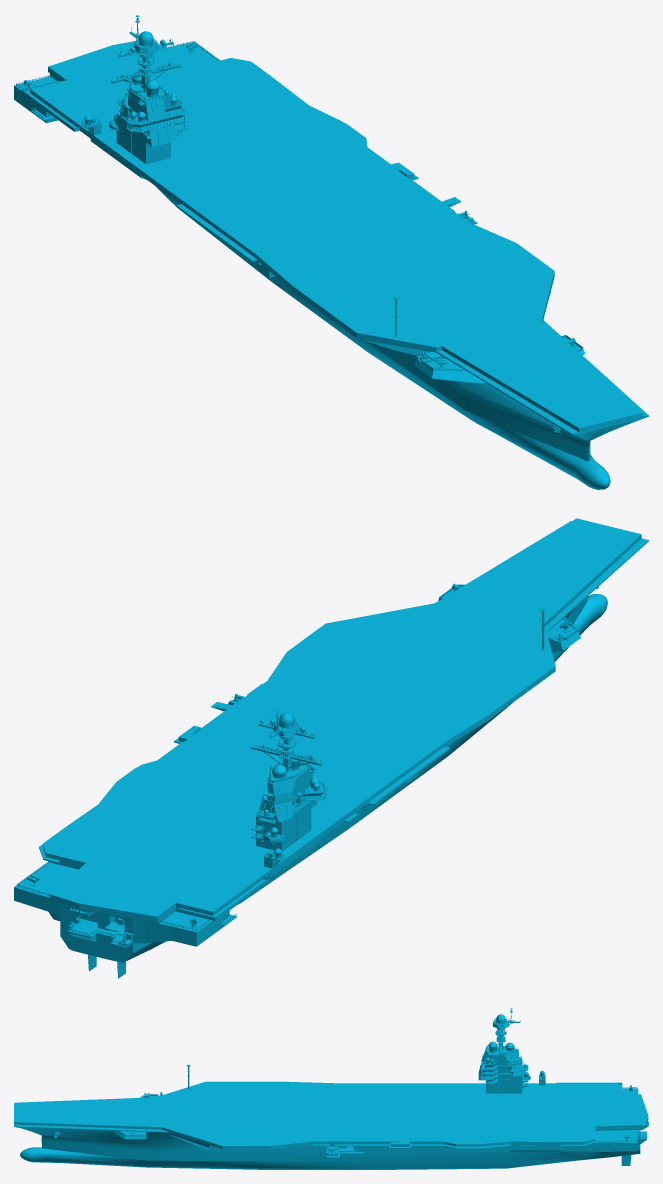
File: geraldrford.fbx
3 views of the same model, one above another, from view 1: azimuth 30°, elevation 25°; view 2: azimuth 150°, elevation 25°; view 3: azimuth 270°, elevation 25° (orthographic). The views are drawn at different scales.
Parts seen in each view (by area): view 1: Plane, Elevator1.001, Plane.003, Plane.002, Plane.001, Cube.001, Cube.516, Cube.522; view 2: Plane, Elevator1.001, Cube.526, Plane.003, Cube.522, Plane.001, Plane.002, Cube.001, Cube.003; view 3: Plane, Elevator1.001, G-__557796.001, Cube.522, Plane.001, Plane.003, Plane.002, Cube.001, Cube.003, G-__557796.002.
Part boxes in pixels (x1,y1,x2,y2): Plane: (21, 41, 648, 435); Elevator1.001: (155, 186, 646, 489); Plane.003: (257, 248, 335, 290); Plane.002: (141, 164, 218, 204); Plane.001: (232, 75, 308, 111); Cube.001: (116, 113, 170, 163); Cube.516: (414, 358, 486, 383); Cube.522: (161, 43, 218, 67); Plane: (39, 518, 648, 921); Elevator1.001: (60, 594, 607, 962); Cube.526: (133, 908, 229, 946); Plane.003: (406, 704, 490, 746); Cube.522: (14, 861, 80, 921); Plane.001: (63, 800, 140, 836); Plane.002: (311, 791, 367, 833); Cube.001: (256, 804, 311, 851); Cube.003: (267, 763, 311, 801); Plane: (14, 1081, 648, 1149); Elevator1.001: (17, 1127, 640, 1169); G-__557796.001: (165, 1132, 509, 1151); Cube.522: (561, 1128, 640, 1151); Plane.001: (510, 1129, 560, 1145); Plane.003: (285, 1081, 334, 1095); Plane.002: (429, 1083, 479, 1095); Cube.001: (486, 1074, 522, 1093); Cube.003: (486, 1047, 518, 1065); G-__557796.002: (510, 1145, 560, 1150).
Size of the model in its own units: 1372 by 1234 by 5359.
